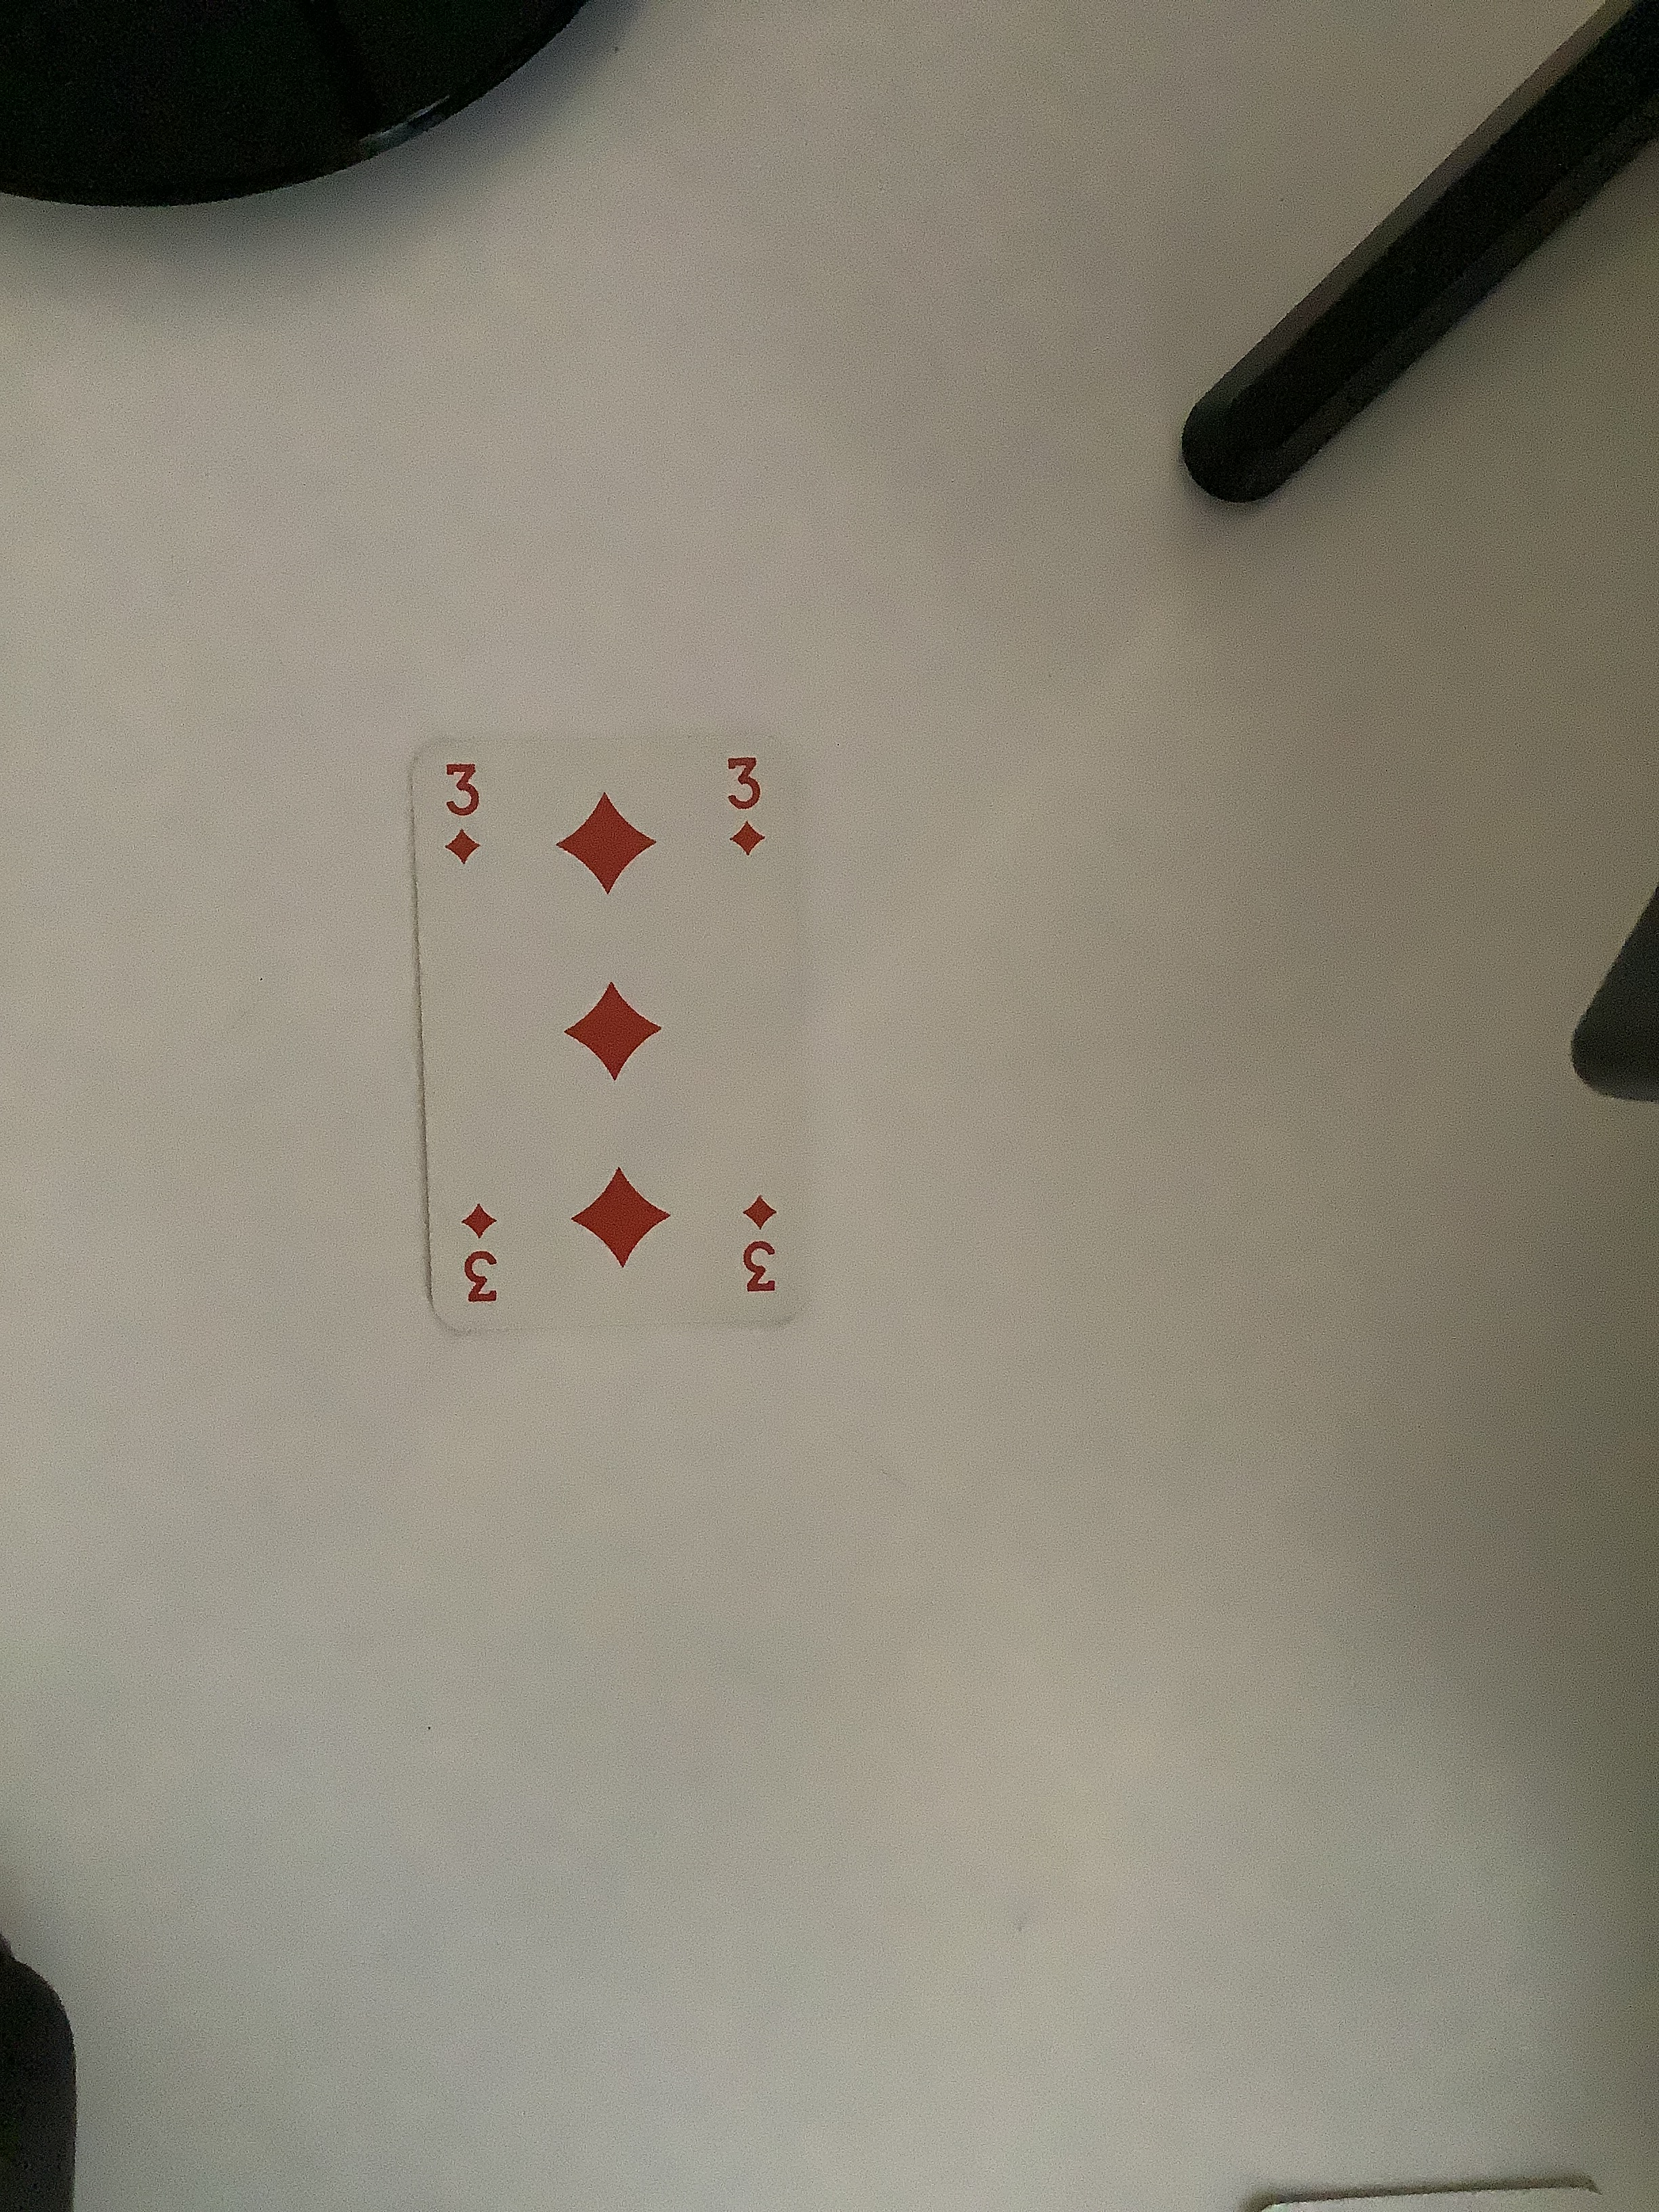♦ 3: (378, 725, 823, 1359)
